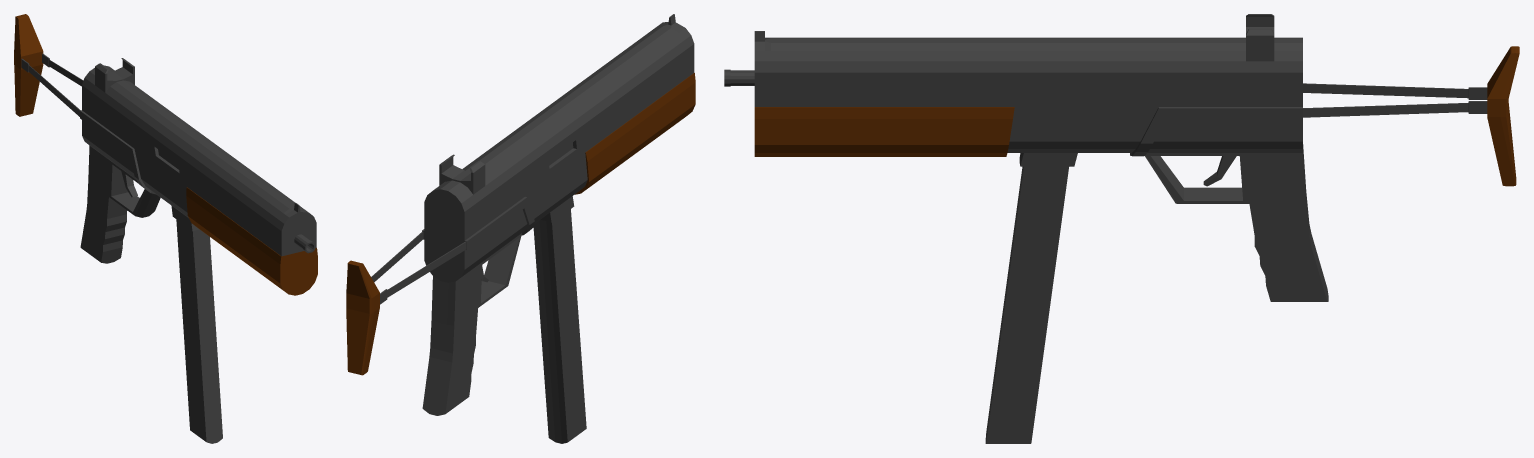
File: SMG.fbx
The picture shows the model from 3 angles, left to right: view 1: azimuth 30°, elevation 25°; view 2: azimuth 150°, elevation 25°; view 3: azimuth 270°, elevation 25°; orthographic projection. The views are drawn at different scales.
Parts seen in each view (by area): view 1: Cylinder; view 2: Cylinder; view 3: Cylinder.
Boxes of the visible parts, x1,y1,x2,y2 form: Cylinder: [14, 14, 317, 443]; Cylinder: [346, 14, 695, 443]; Cylinder: [724, 14, 1519, 443].
Bounding box in the file's own units: 218 × 1639 × 2812.
